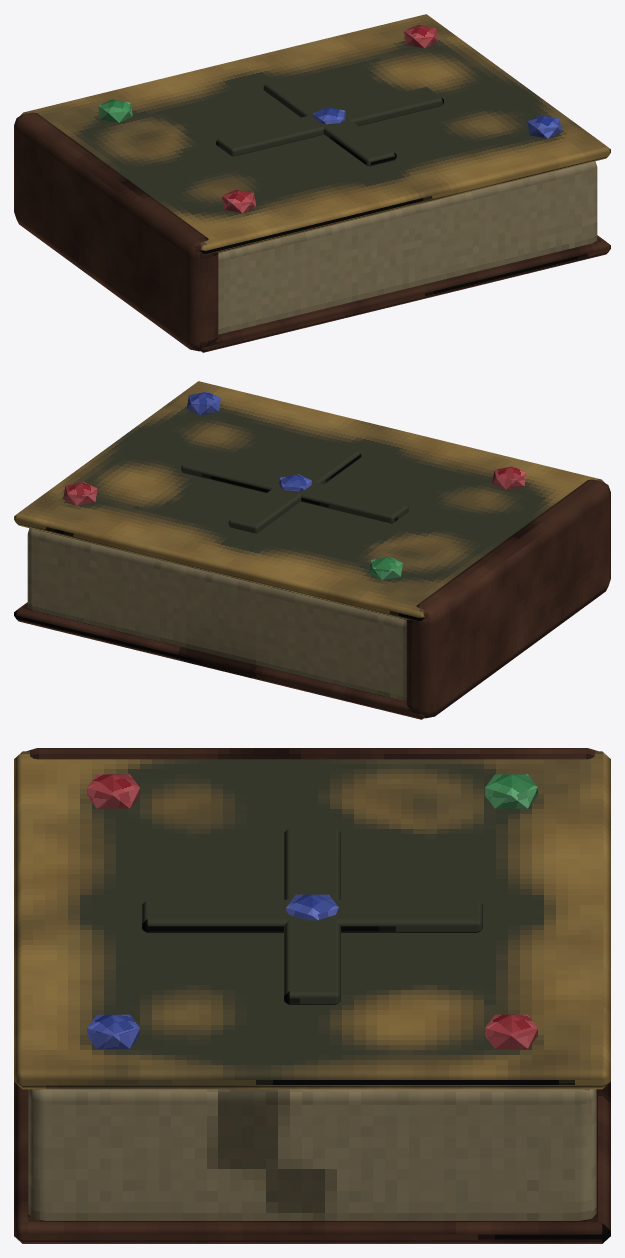
File: gospel.glb
The picture shows the model from 3 angles, top to bottom: view 1: azimuth 30°, elevation 25°; view 2: azimuth 150°, elevation 25°; view 3: azimuth 270°, elevation 25°; orthographic projection. The views are drawn at different scales.
Parts seen in each view (by area): view 1: gospel; view 2: gospel; view 3: gospel.
Boxes of the visible parts, bbox=[...] form: gospel: bbox=[14, 14, 610, 352]; gospel: bbox=[14, 381, 610, 719]; gospel: bbox=[14, 748, 610, 1243].
Size of the model in its own units: 0.275 by 0.0796 by 0.21.
Materials: 1 (1 with a texture image).
